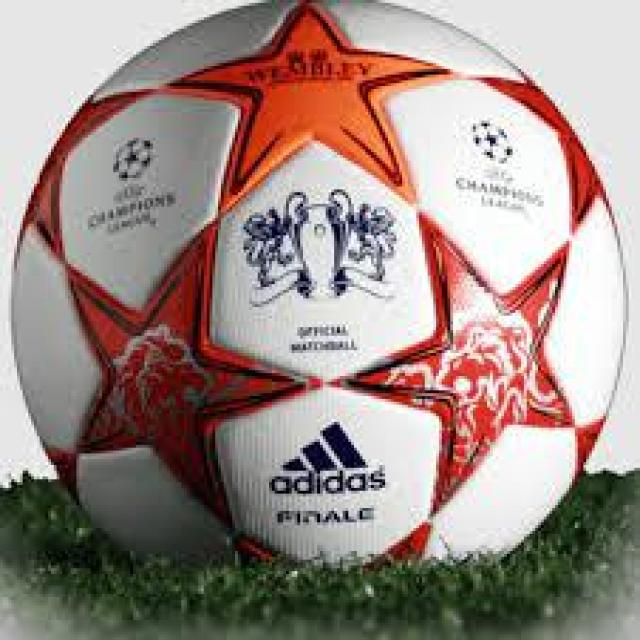ball: (5, 0, 637, 588)
